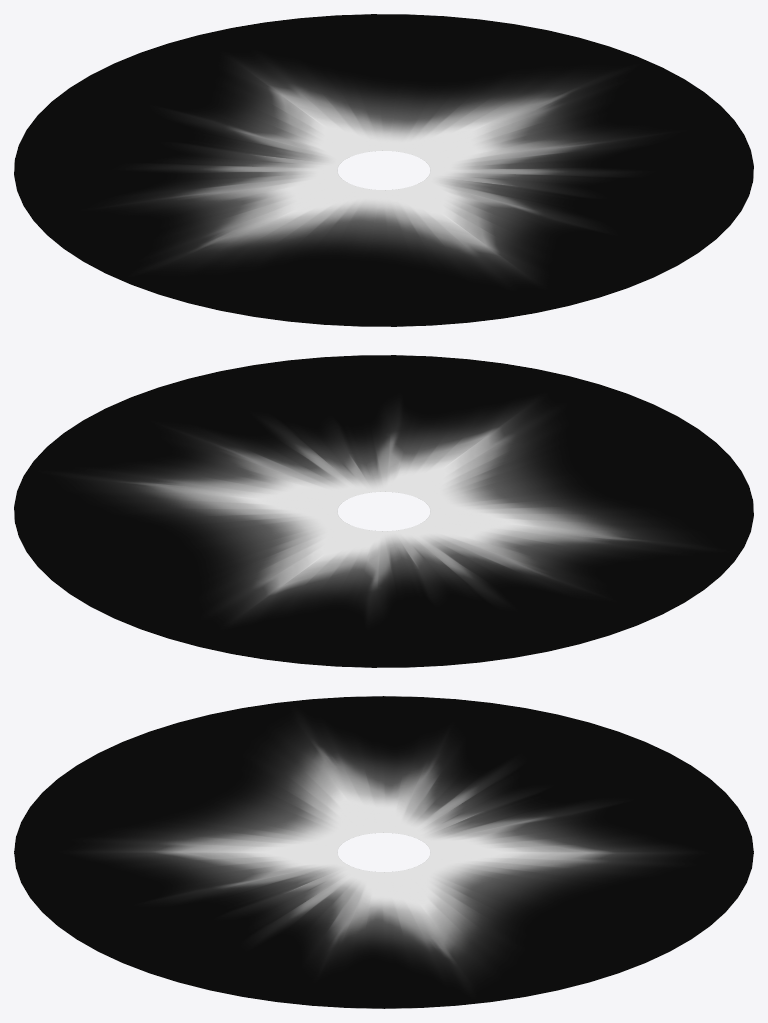
The model's file is PannerCircle.fbx.
3 renders of one model, top to bottom at view 1: azimuth 30°, elevation 25°; view 2: azimuth 150°, elevation 25°; view 3: azimuth 270°, elevation 25°, orthographic.
Visible parts, largest first — view 1: PannerCircle; view 2: PannerCircle; view 3: PannerCircle.
Part boxes in pixels (box(x1,y1,x2,y2)): PannerCircle: box(14, 14, 753, 326); PannerCircle: box(14, 355, 753, 667); PannerCircle: box(14, 696, 753, 1008).
Bounding box in the file's own units: 199 × 0 × 199.
